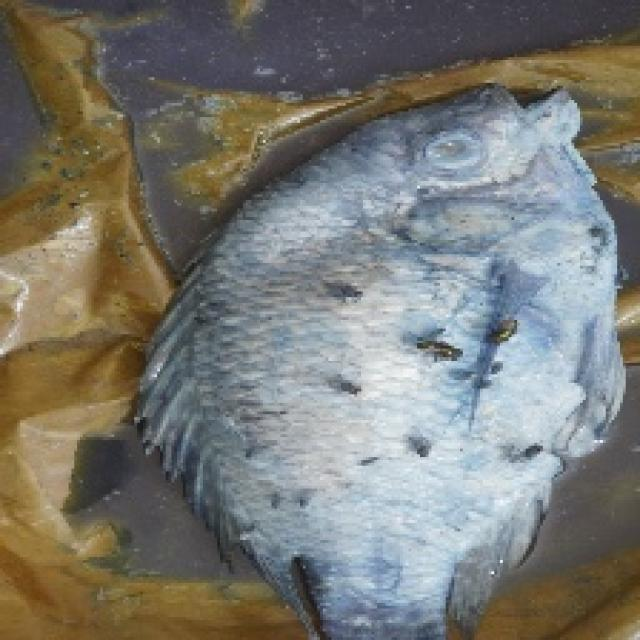Non-Fresh: (224, 49, 626, 640), (422, 121, 498, 182)
